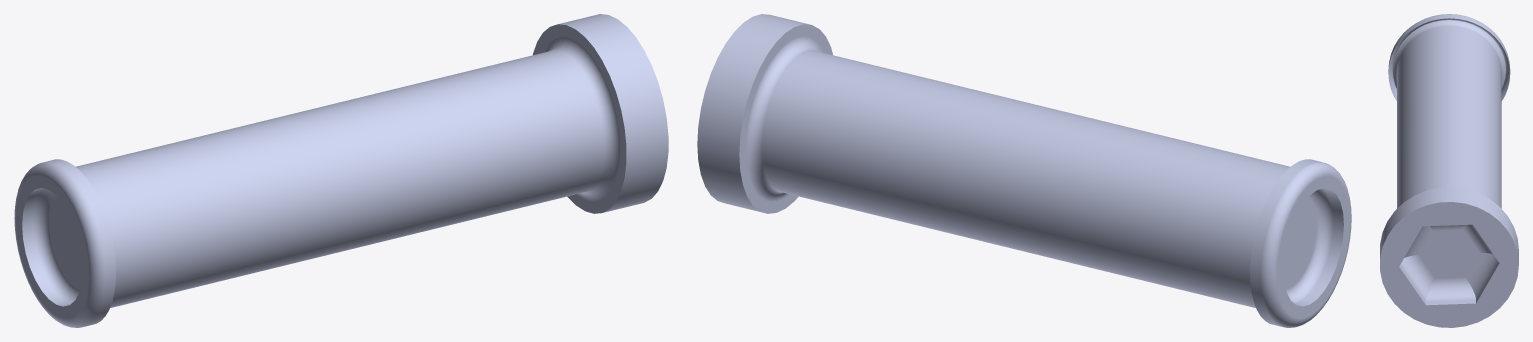
The model's file is parafuso.dae.
3 views of the same model, side by side, from view 1: azimuth 30°, elevation 25°; view 2: azimuth 150°, elevation 25°; view 3: azimuth 270°, elevation 25° (orthographic). The views are drawn at different scales.
Visible parts, largest first — view 1: node_3b200482_bdf8_499b_a6d7_a3689c8c0748_mesh0; view 2: node_3b200482_bdf8_499b_a6d7_a3689c8c0748_mesh0; view 3: node_3b200482_bdf8_499b_a6d7_a3689c8c0748_mesh0.
Part boxes in pixels (x1,y1,x2,y2): node_3b200482_bdf8_499b_a6d7_a3689c8c0748_mesh0: (14,14,668,327); node_3b200482_bdf8_499b_a6d7_a3689c8c0748_mesh0: (697,14,1351,327); node_3b200482_bdf8_499b_a6d7_a3689c8c0748_mesh0: (1380,14,1518,327).
Bounding box in the file's own units: 0.027 × 0.00799 × 0.00798.
